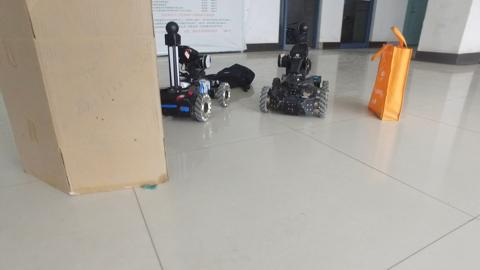bag: (371, 24, 408, 122)
chariot: (156, 21, 229, 123), (256, 22, 328, 116)
